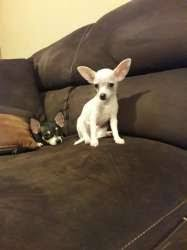chihuahua: (73, 54, 140, 160)
